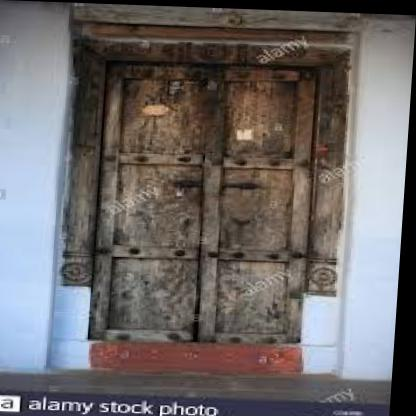door: (73, 36, 339, 361)
